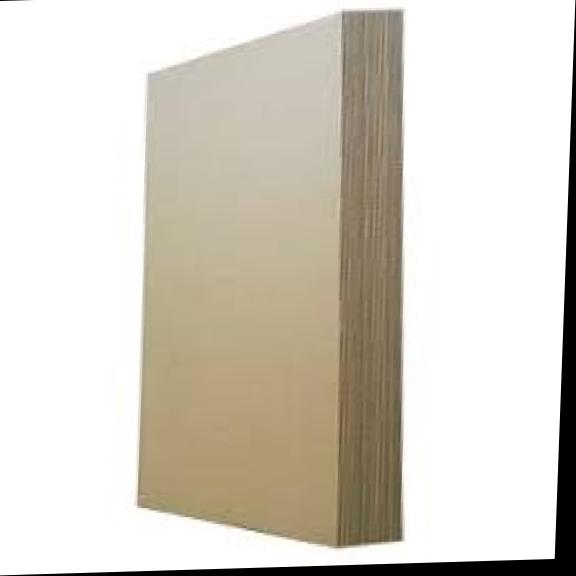Kertas: (138, 9, 402, 545)
